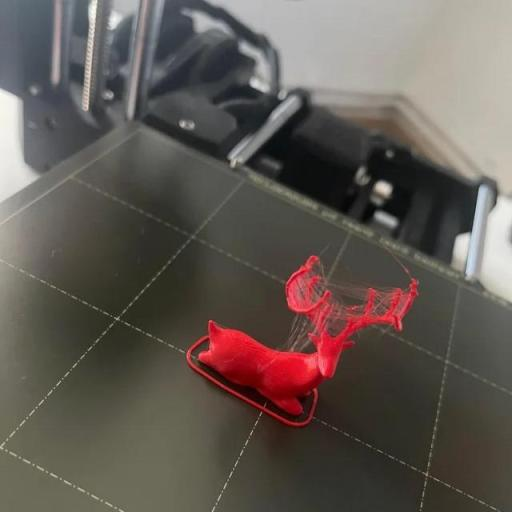stringing: (286, 318, 313, 349), (324, 309, 352, 332), (290, 276, 312, 304), (330, 283, 364, 299), (374, 292, 394, 314)
